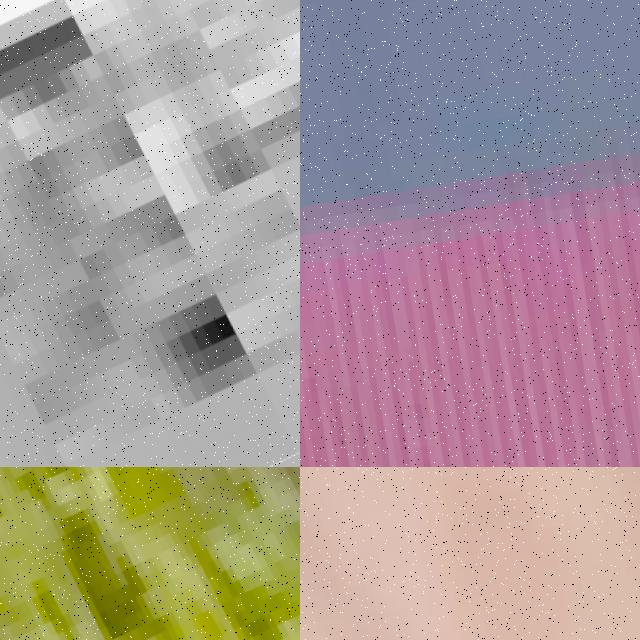drone: (0, 0, 300, 467), (0, 467, 300, 640)
